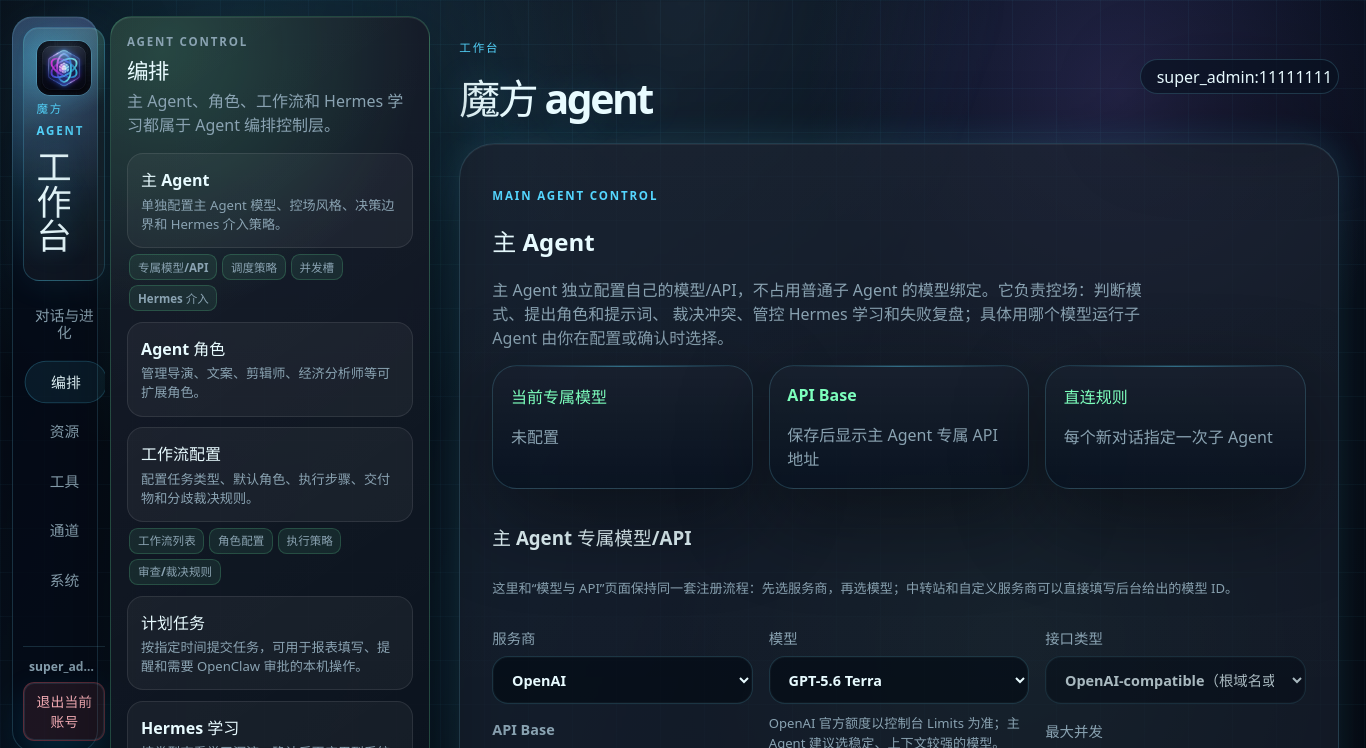
Scenario: MainAgentPage › lets the main agent use catalog presets or custom providers like model registration
The image size is (1366, 748).
Select "DeepSeek" in the dropdown with test id "main-agent-provider". click: x=623, y=680
box: [492, 656, 753, 704]
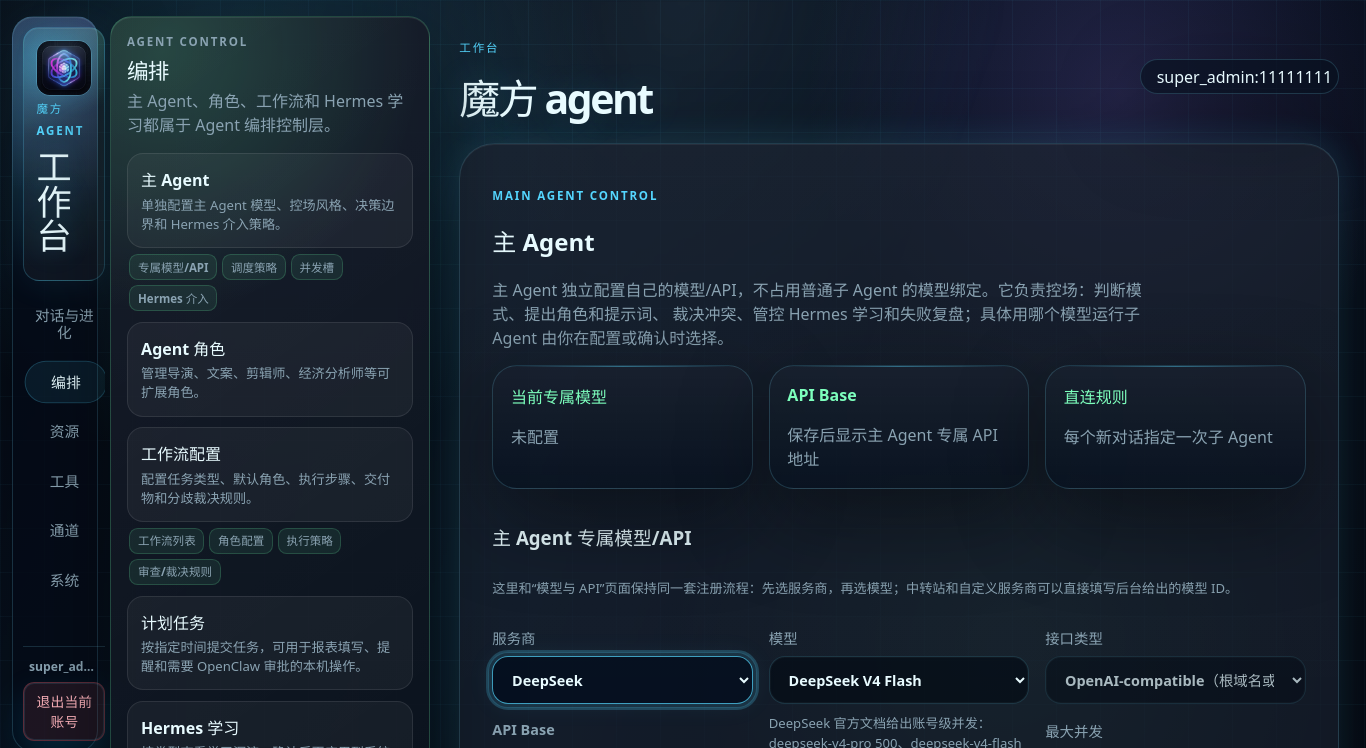
Expected: the dropdown with test id "main-agent-api-protocol" shows "OpenAI-compatible（根域名或 /v1）", [1045, 656, 1306, 704]
Expected: the dropdown with test id "main-agent-model" shows "DeepSeek V4 Flash"
Select "自定义模型" in the dropdown with test id "main-agent-model". click: x=899, y=680
box: [769, 656, 1029, 704]
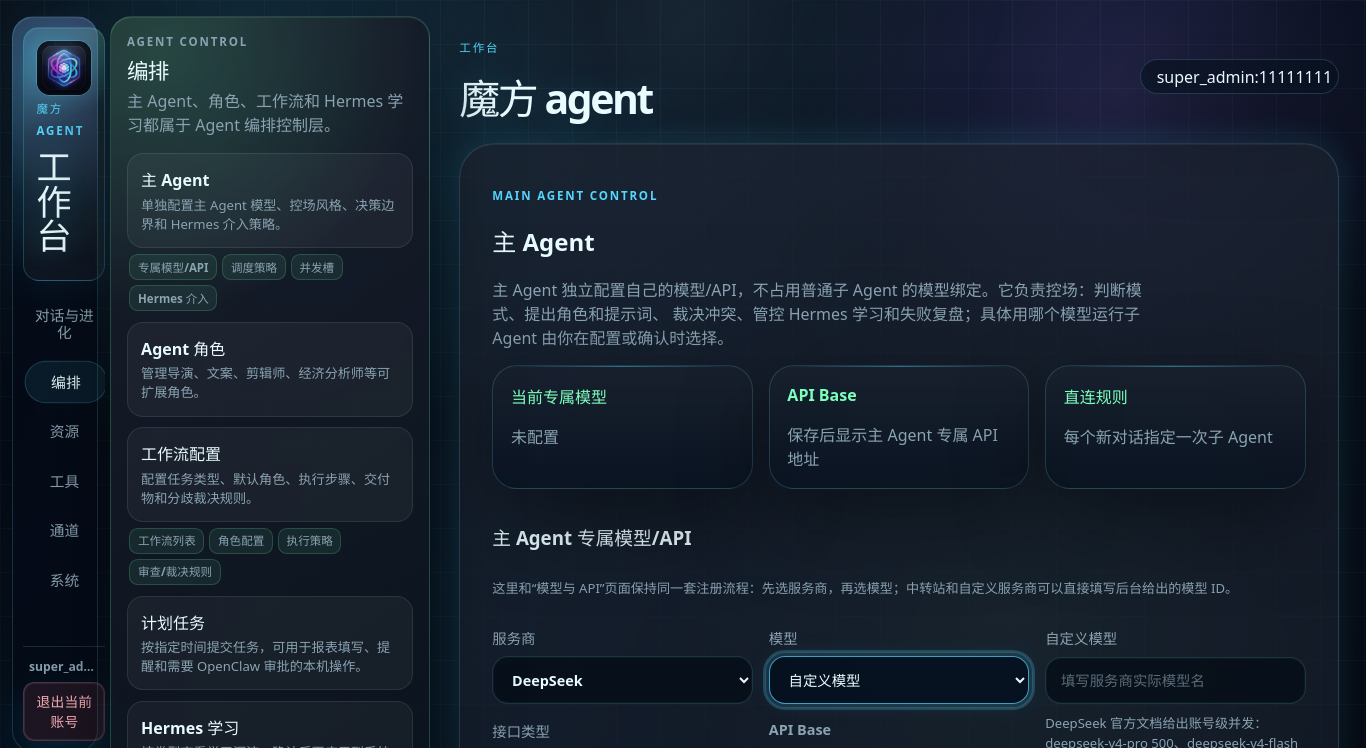
Expected: the field with test id "main-agent-custom-model" is shown, [1045, 657, 1306, 704]
Select "自定义服务商" in the dropdown with test id "main-agent-provider". click: x=623, y=680
box: [492, 656, 753, 704]
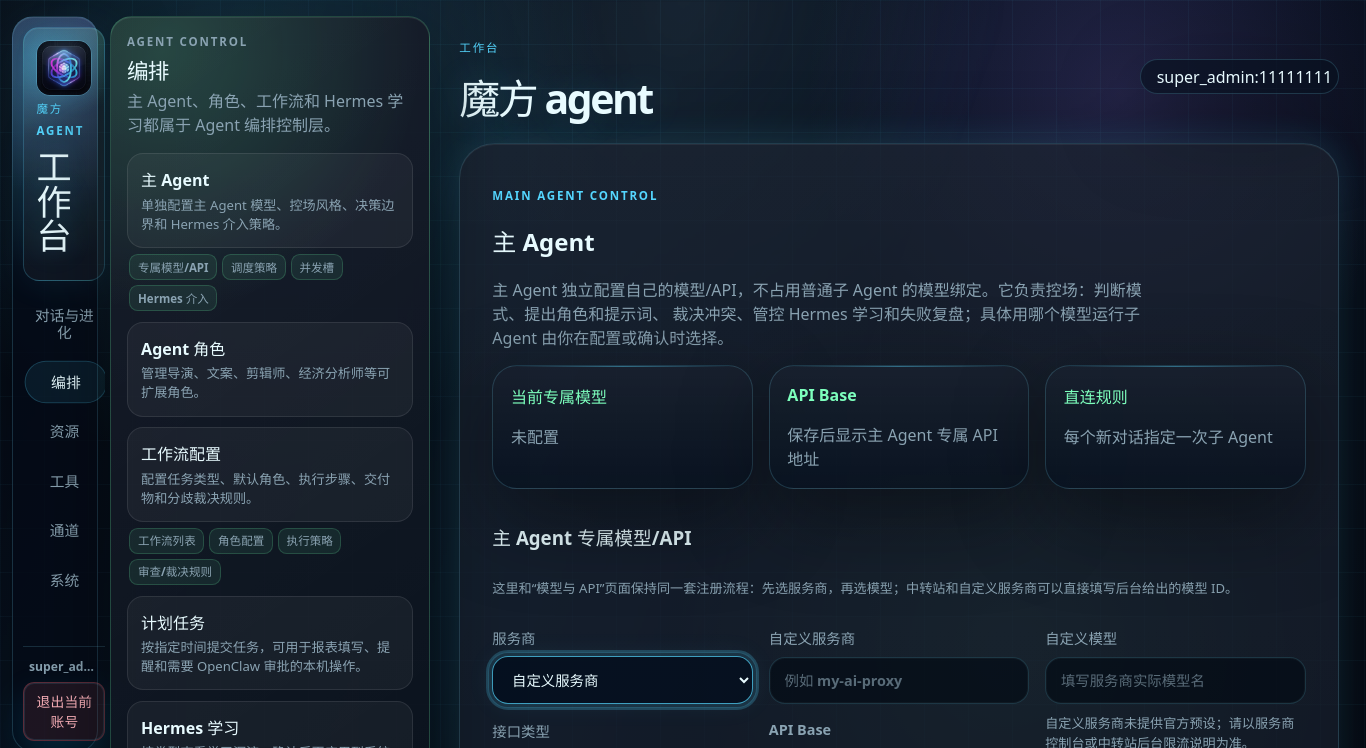
Expected: the field with test id "main-agent-custom-model" is shown, [1045, 657, 1306, 704]
Expected: the field with test id "main-agent-custom-provider" is shown, [769, 657, 1029, 704]
